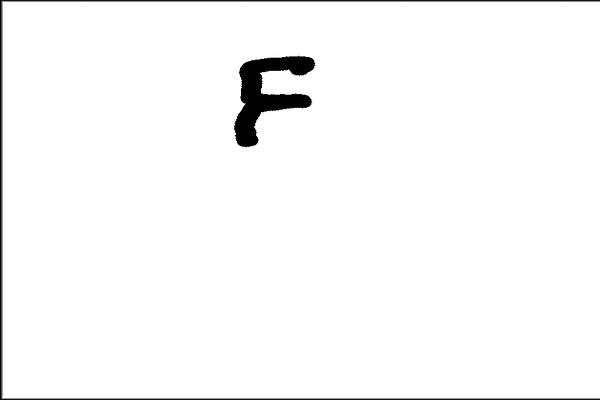F: (229, 51, 319, 149)
